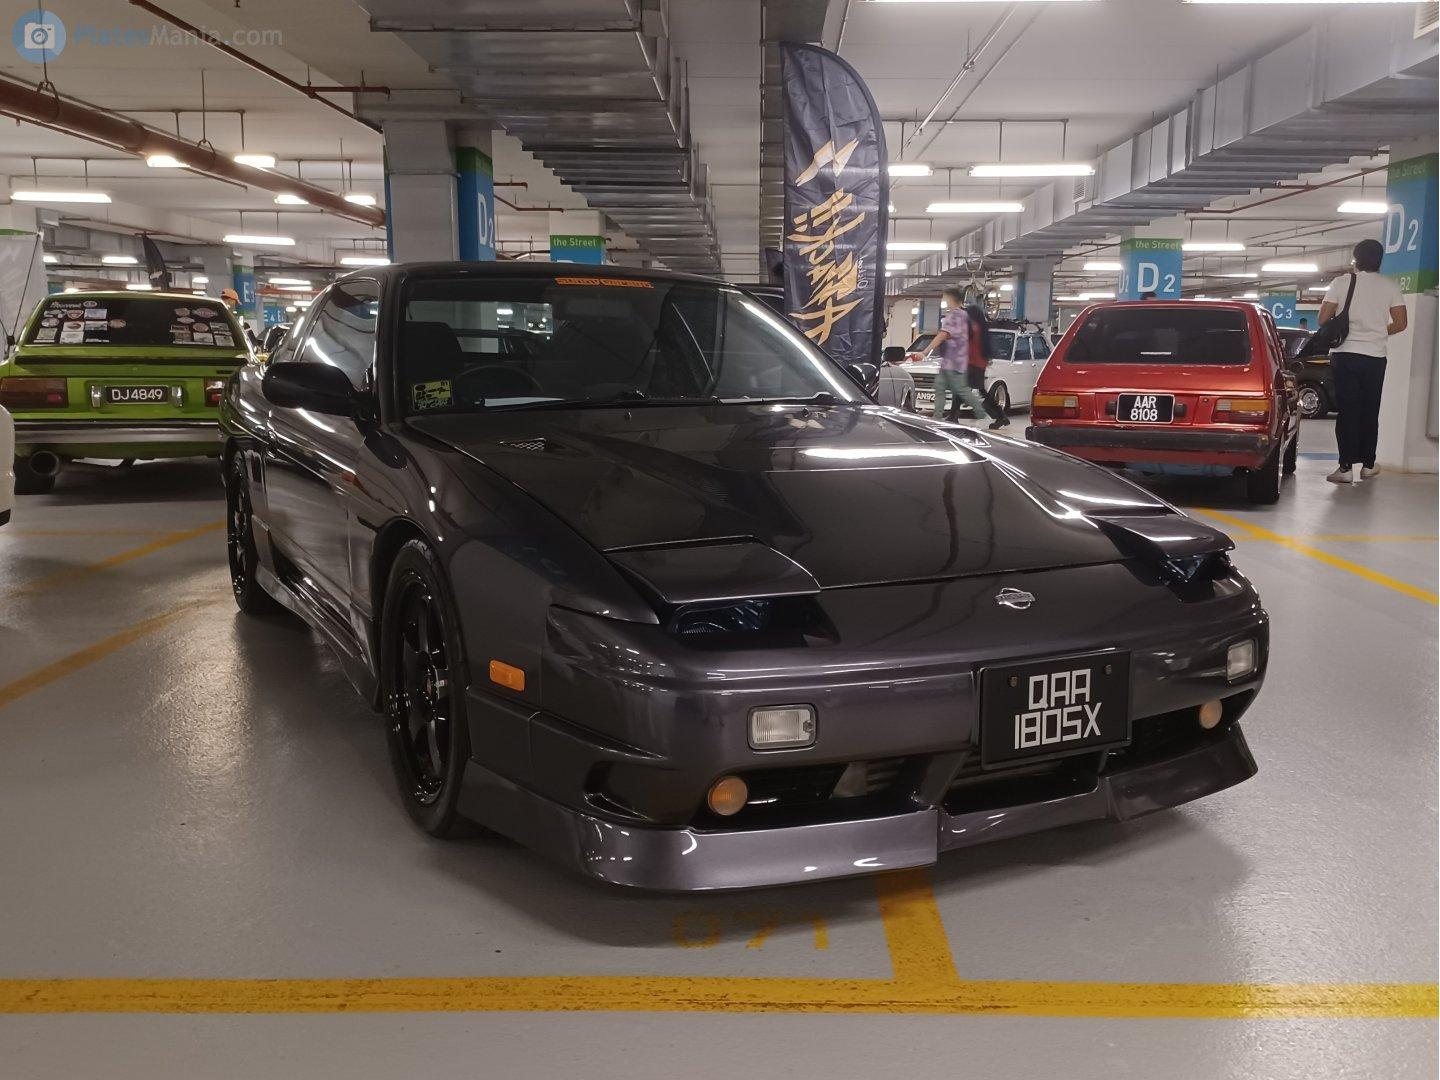License Plate: (989, 653, 1133, 768)
